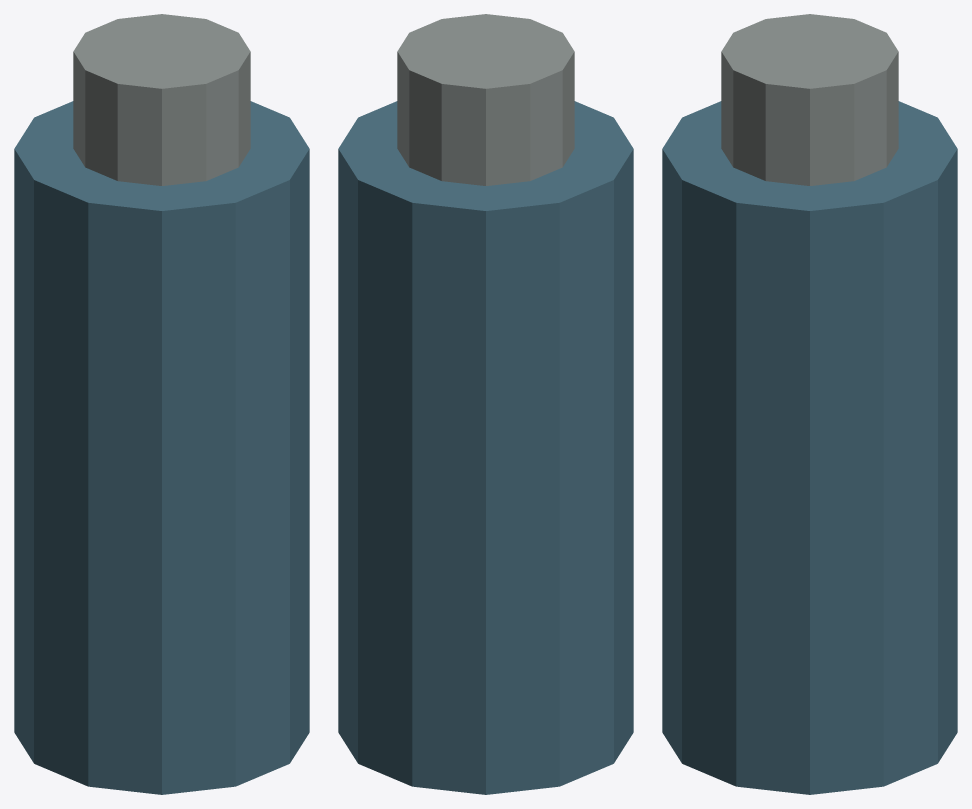
File: bottle.glb
The picture shows the model from 3 angles, left to right: view 1: azimuth 30°, elevation 25°; view 2: azimuth 150°, elevation 25°; view 3: azimuth 270°, elevation 25°; orthographic projection.
Visible parts, largest first — view 1: bottle_Blue, bottle_SteelEdge; view 2: bottle_Blue, bottle_SteelEdge; view 3: bottle_Blue, bottle_SteelEdge.
Boxes of the visible parts, x1,y1,x2,y2 form: bottle_Blue: [14, 101, 309, 794]; bottle_SteelEdge: [73, 14, 250, 185]; bottle_Blue: [338, 101, 633, 794]; bottle_SteelEdge: [397, 14, 574, 185]; bottle_Blue: [662, 101, 957, 794]; bottle_SteelEdge: [721, 14, 898, 185].
Bounding box in the file's own units: 0.11 × 0.28 × 0.11.
